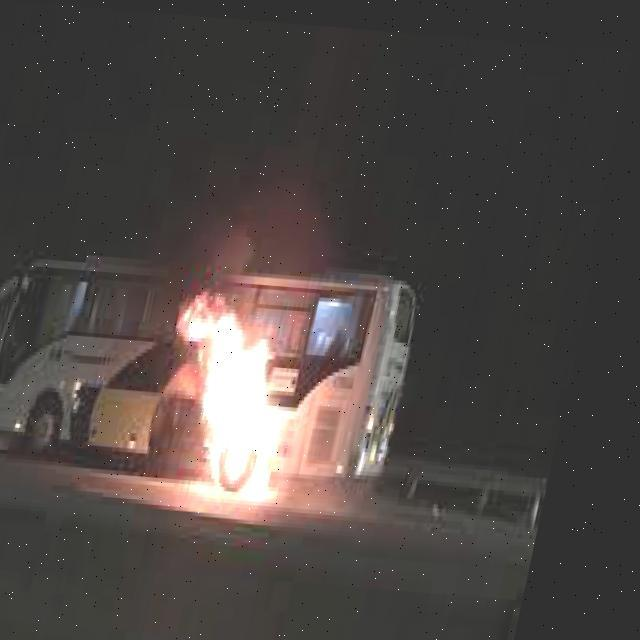Fire: (158, 274, 341, 504)
